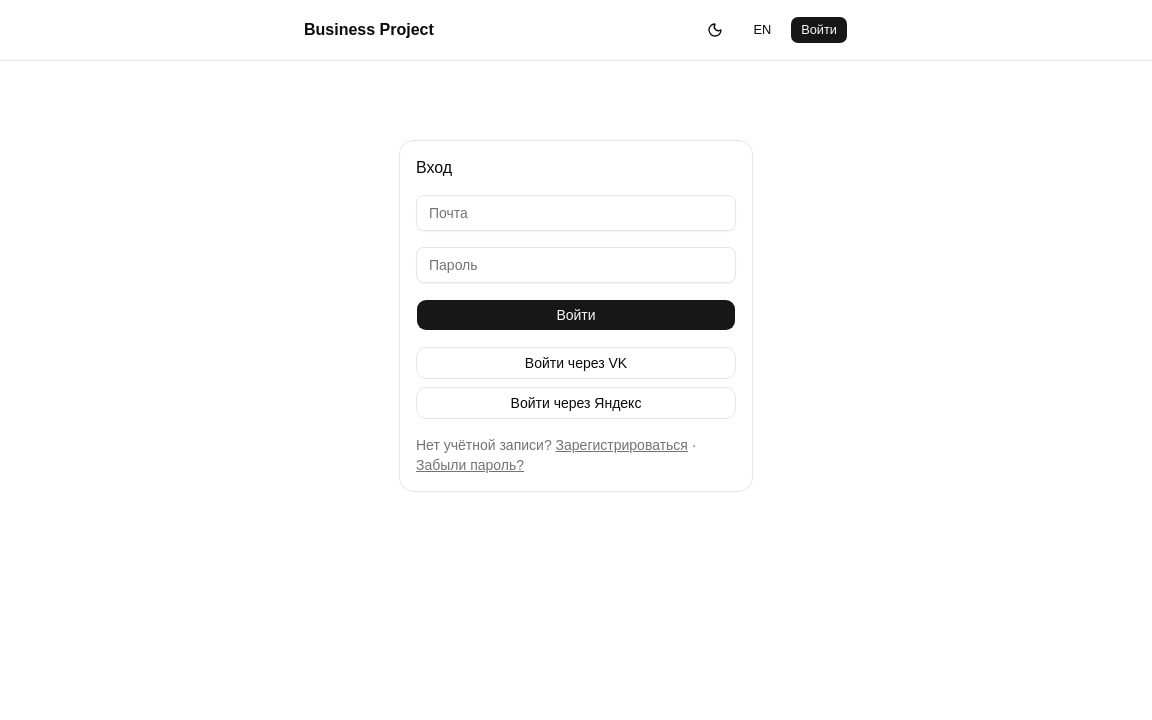
вход с двухфакторной защитой спрашивает код
Type "second@test.local" into the field with placeholder "Почта".
click(576, 213); type("second@test.local")  # box [416,195,736,231]
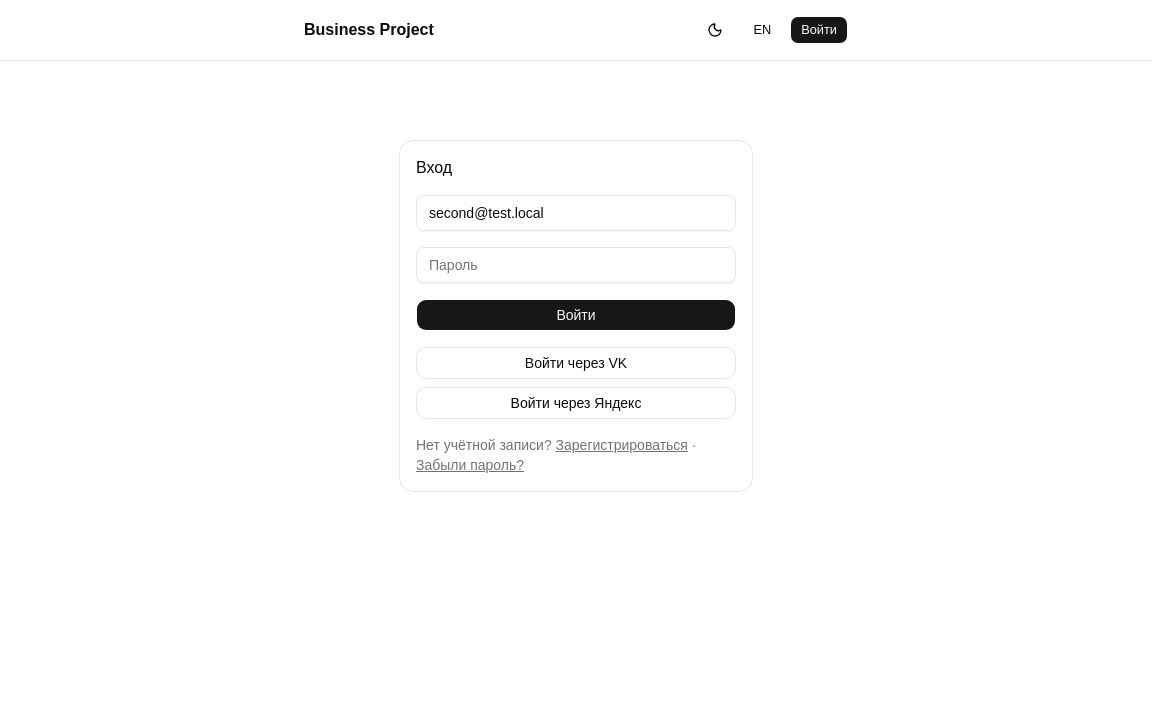
Type "correct-horse-9" into the password field with placeholder "Пароль".
click(576, 265); type("correct-horse-9")  # box [416,247,736,283]
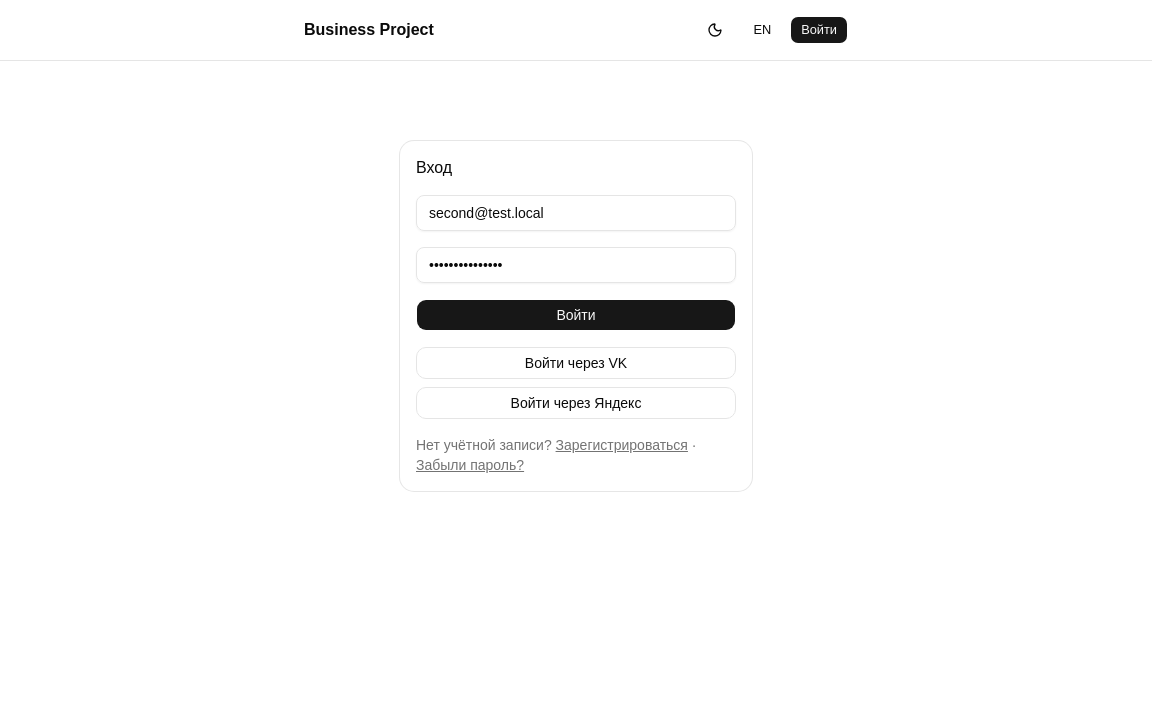
Click the button "Войти".
click(576, 315)  # box [416,299,736,331]
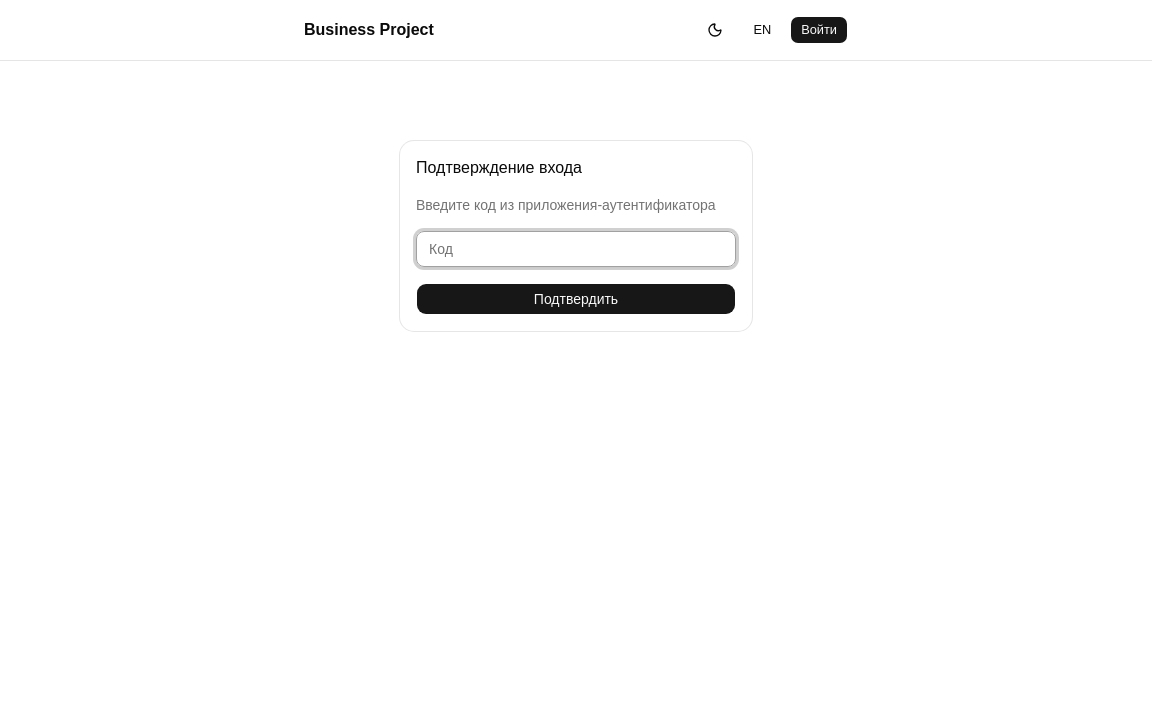
Type "123456" into the field with placeholder "Код".
click(576, 249); type("123456")  # box [416,231,736,267]
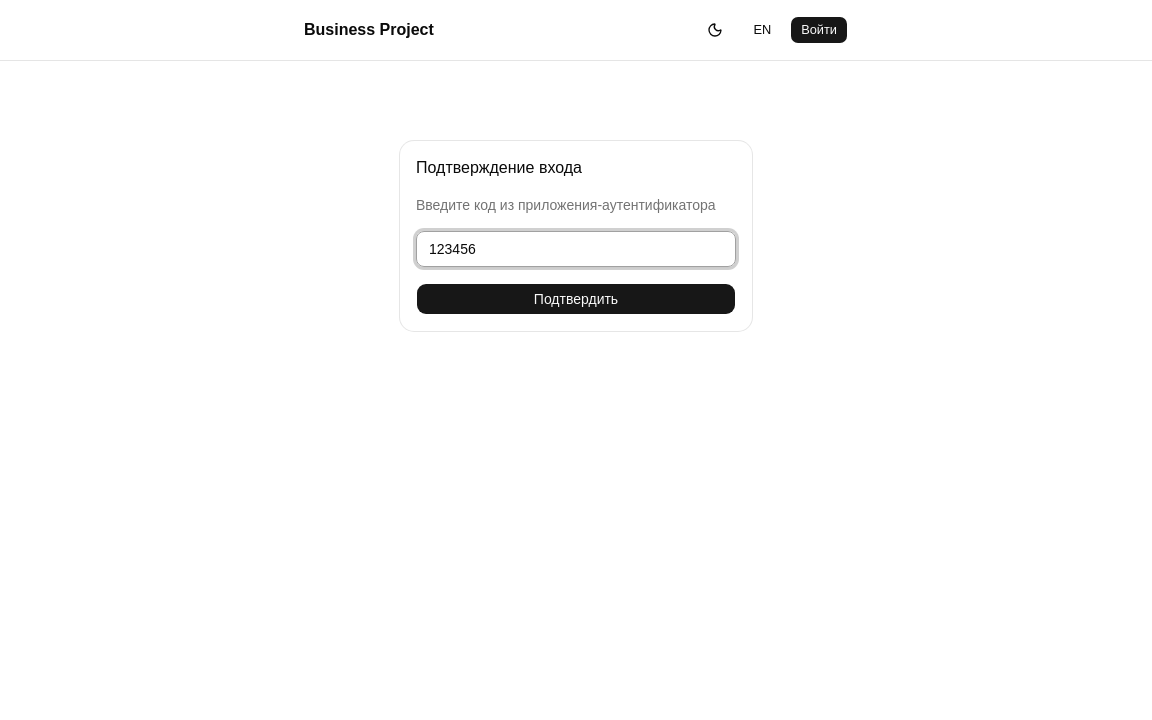
Click the button "Подтвердить".
click(576, 299)  # box [416,283,736,315]
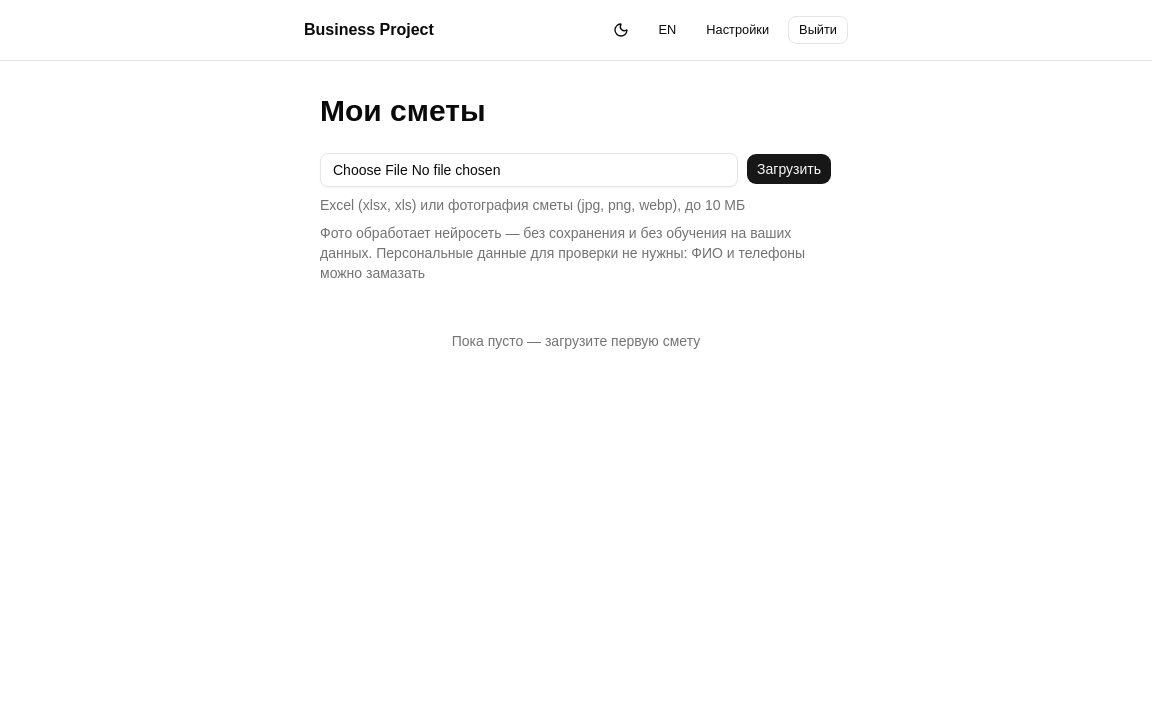
Expected: the button "Выйти" is shown, [788,16,848,44]
